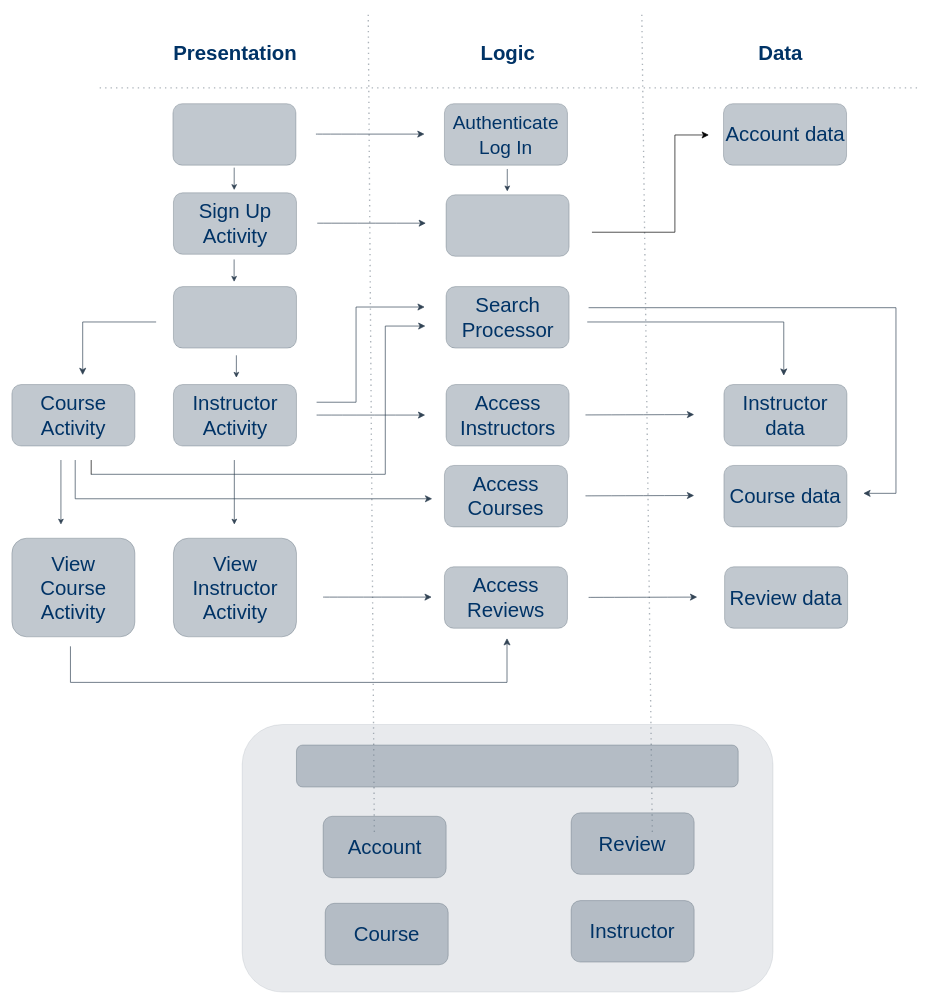
Image size: 933x1004. Some labels were removed from this diagram. Each missing label, with the box of its shape:
Access Accounts: (445, 194, 569, 256)
Domain Specific Objects: (296, 744, 738, 787)
Home Activity: (173, 286, 296, 348)
Start Up Activity: (172, 103, 296, 165)
